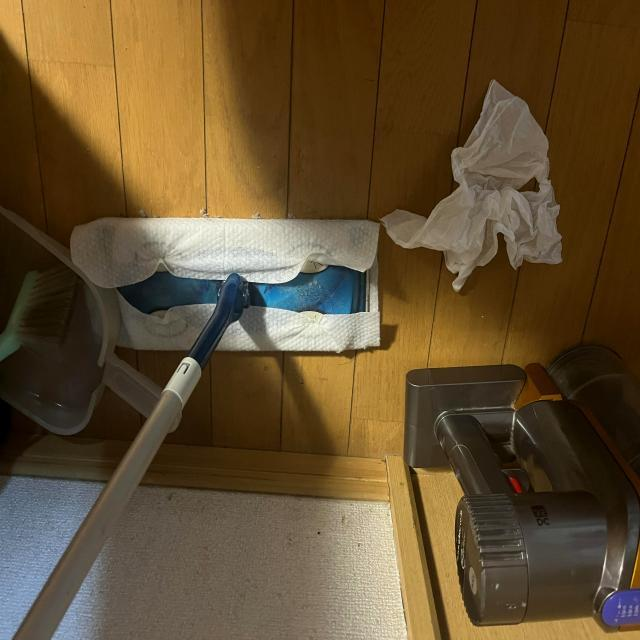Paper: (397, 73, 565, 290)
